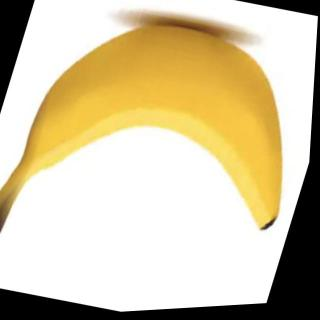banana: (10, 0, 320, 251)
